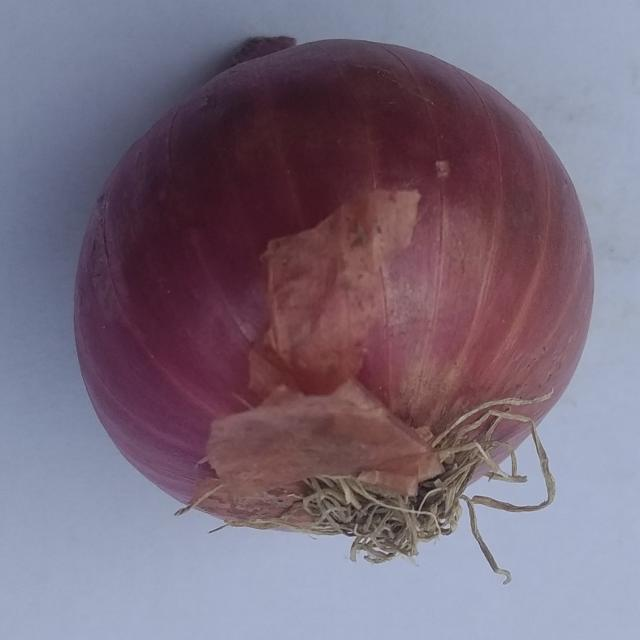onion: (72, 35, 594, 586)
